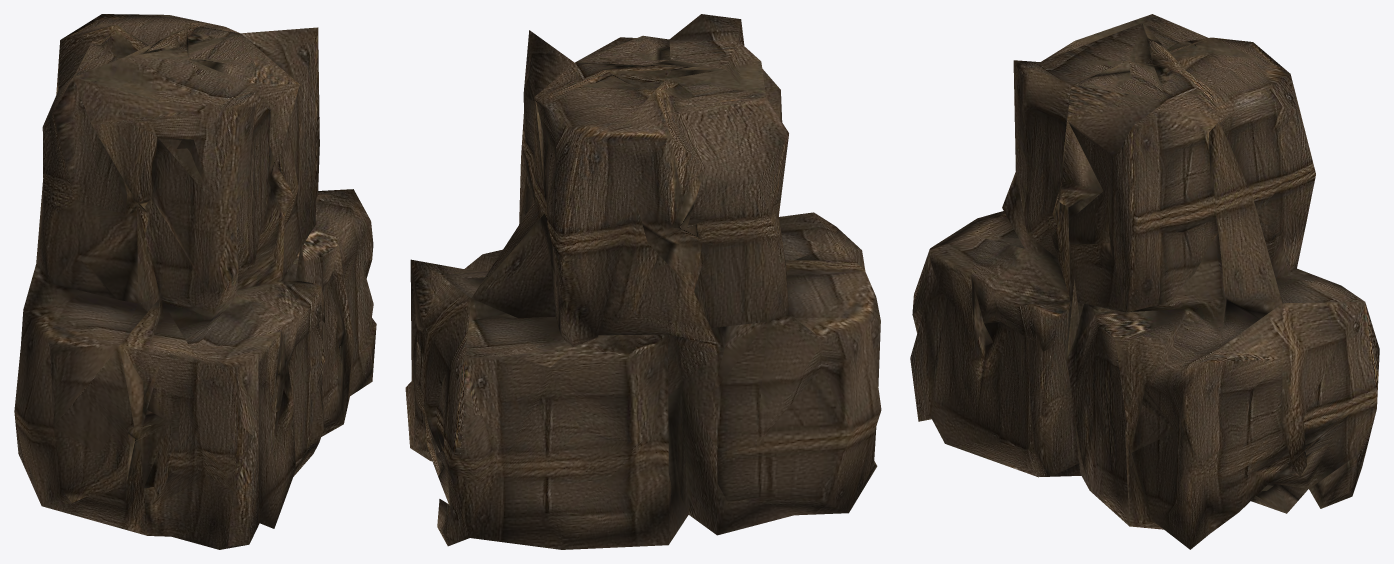
The model's file is crates.glb.
3 renders of one model, left to right at view 1: azimuth 30°, elevation 25°; view 2: azimuth 150°, elevation 25°; view 3: azimuth 270°, elevation 25°, orthographic. The views are drawn at different scales.
Bounding box in the file's own units: 0.9567 × 0.9623 × 1.
Materials: 1 (1 with a texture image).
